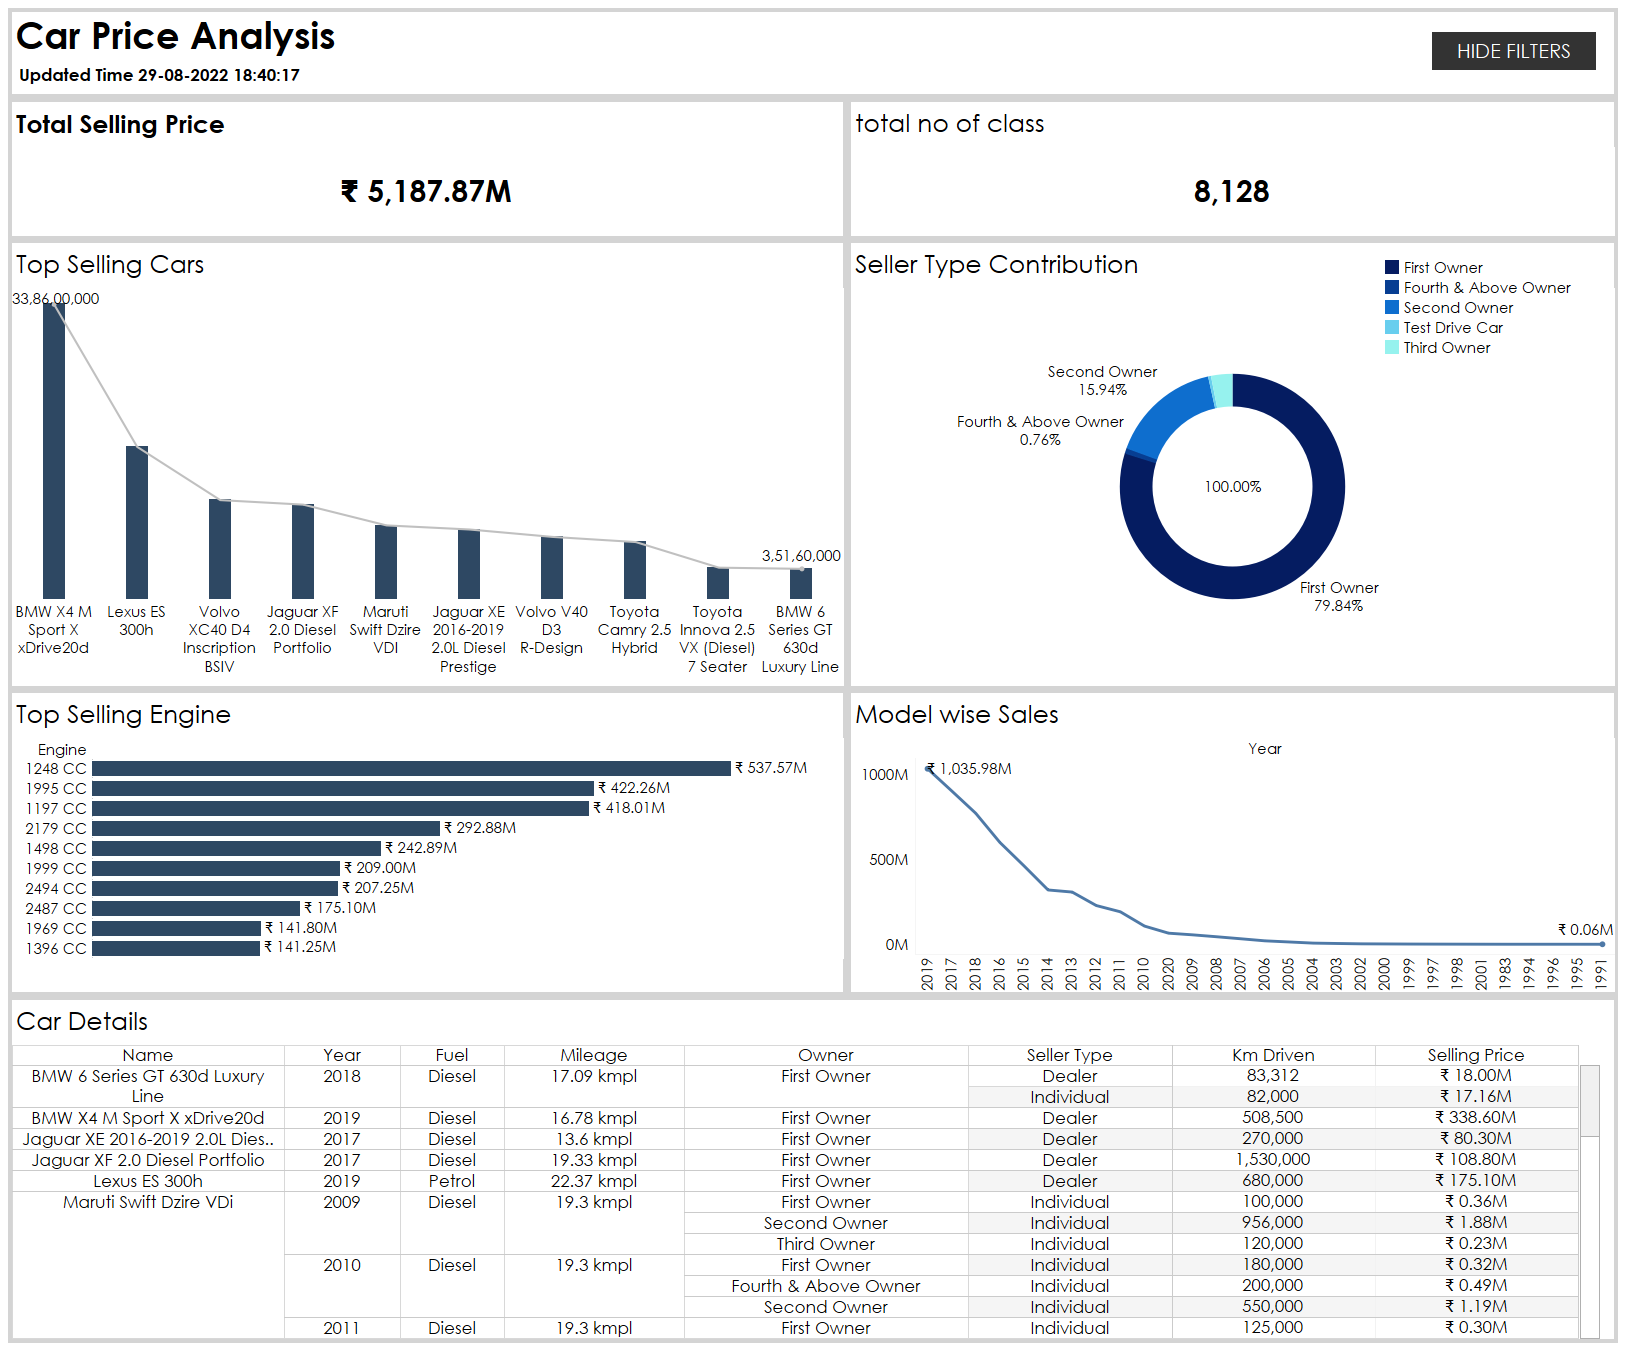

What the dashboard file says about the page in this screenshot:
{"tool":"tableau","page":{"name":"Car Price Analysis","canvas":[1626,1351],"ordinal":0},"visuals":[{"type":"title","box":[8,8,1610,90]},{"type":"dashboard-object","box":[1432,32,164,38]},{"type":"worksheet","title":"Sheet 8","mark":"Automatic","box":[15,58,342,33]},{"type":"parameter","param":"[Parameters].[Name Parameter]","box":[1449,94,160,53]},{"type":"worksheet","title":"total selling price","mark":"Automatic","box":[8,98,839.4,140.8]},{"type":"worksheet","title":"total no of class","mark":"Automatic","box":[847.4,98,770.6,140.8]},{"type":"filter","title":"Car Details","param":"[federated.1dzmrqw0svp2r410td84h1abzbue].[none:fuel:nk]","box":[1449,147,160,53]},{"type":"filter","title":"Car Details","param":"[federated.1dzmrqw0svp2r410td84h1abzbue].[none:year:ok]","box":[1449,200,160,53]},{"type":"worksheet","title":"Top Selling Cars","mark":"Automatic","rows":["selling_price","selling_price"],"cols":["name"],"box":[8,238.8,839.4,450.6]},{"type":"worksheet","title":"Seller Type Contribution","mark":"Pie","cols":["Calculation_1133218259636375554","Calculation_1133218259636375554"],"box":[847.4,238.8,770.6,450.5]},{"type":"legend","title":"Seller Type Contribution","param":"[federated.1dzmrqw0svp2r410td84h1abzbue].[none:owner:nk]","box":[1382,257,216,108]},{"type":"worksheet","title":"Model wise Sales","mark":"Line","rows":["selling_price"],"cols":["year"],"box":[847.4,689.3,770.6,306.8]},{"type":"worksheet","title":"Top Selling Engine","mark":"Automatic","rows":["engine"],"cols":["selling_price"],"box":[8,689.4,839.4,306.7]},{"type":"worksheet","title":"Car Details","mark":"Automatic","rows":["name","year","fuel","mileage","owner","seller_type"],"box":[8,996.1,1610,346.9]}]}

Visuals, with their boxes in screenshot pixels (x1, y1, x2, y2), scaled from the page's 1626x1351 canvas onto the 1626x1351 screenshot:
title: <box>8,8,1618,98</box>
dashboard-object: <box>1432,32,1596,70</box>
"Sheet 8" worksheet: <box>15,58,357,91</box>
parameter: <box>1449,94,1609,147</box>
"total selling price" worksheet: <box>8,98,847,239</box>
"total no of class" worksheet: <box>847,98,1618,239</box>
"Car Details" filter: <box>1449,147,1609,200</box>
"Car Details" filter: <box>1449,200,1609,253</box>
"Top Selling Cars" worksheet: <box>8,239,847,689</box>
"Seller Type Contribution" worksheet (Pie marks): <box>847,239,1618,689</box>
"Seller Type Contribution" legend: <box>1382,257,1598,365</box>
"Model wise Sales" worksheet (Line marks): <box>847,689,1618,996</box>
"Top Selling Engine" worksheet: <box>8,689,847,996</box>
"Car Details" worksheet: <box>8,996,1618,1343</box>
